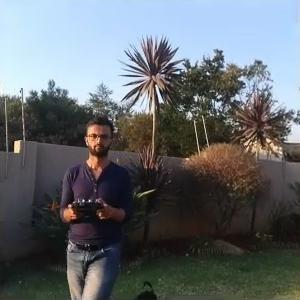follow: (48, 111, 130, 298)
